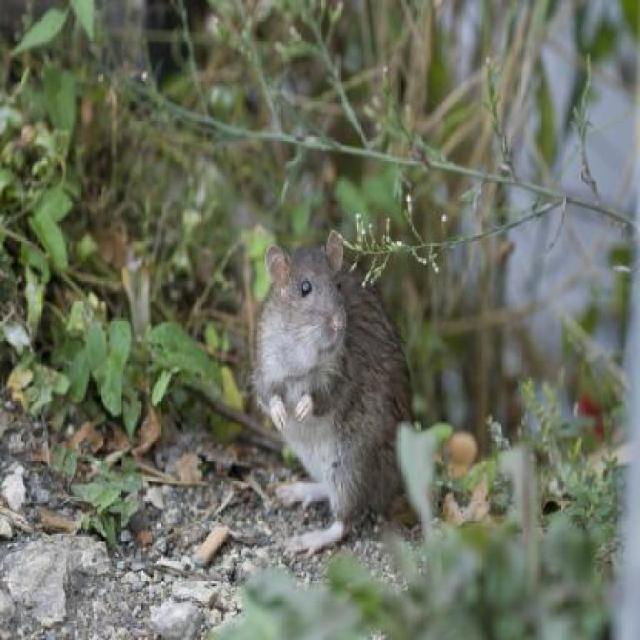Mouse: (254, 224, 417, 563)
